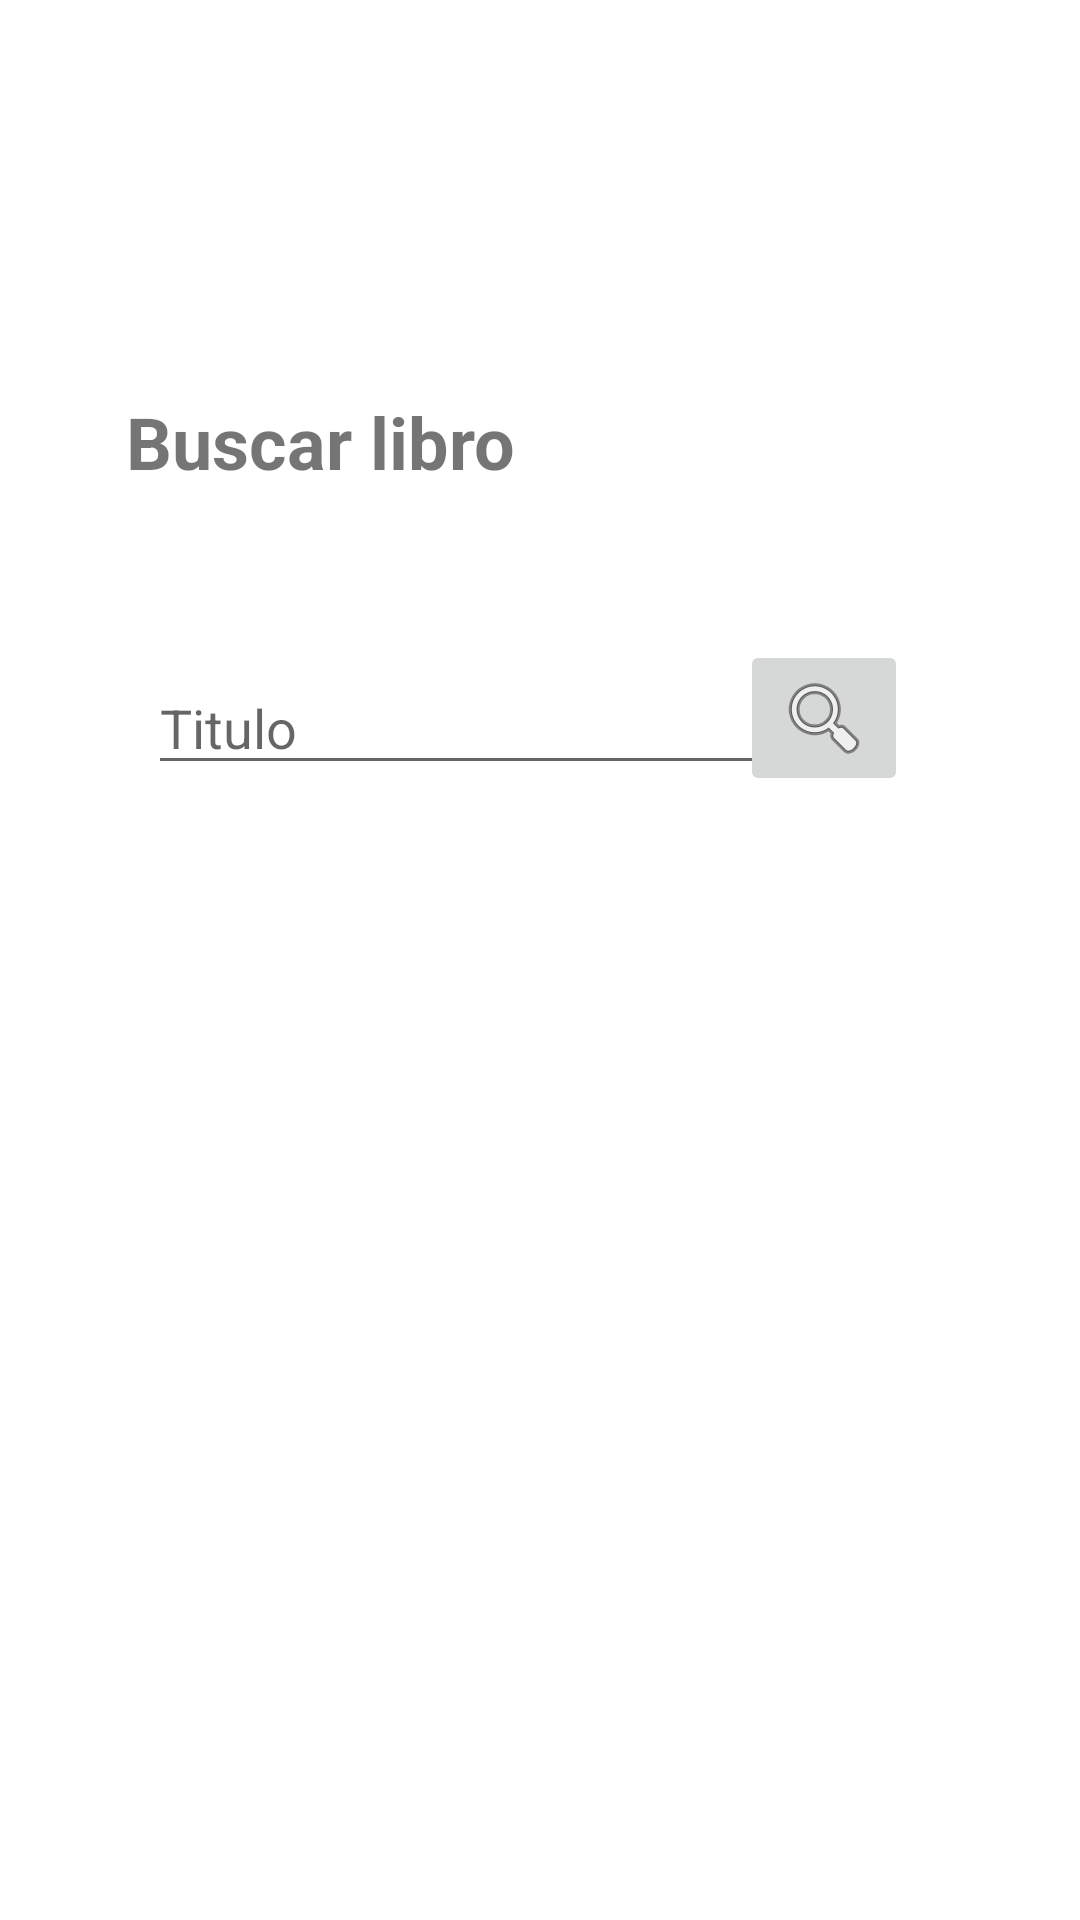

Named icons in this screenshot (1080px x 1920px) and their centers, point (x, y):
search: point (818, 718)
